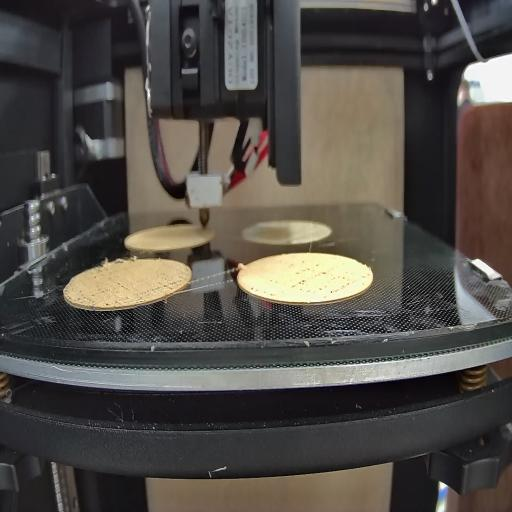under_extrusion: (290, 262, 355, 296), (77, 274, 130, 310), (145, 281, 185, 300), (250, 284, 276, 302)
